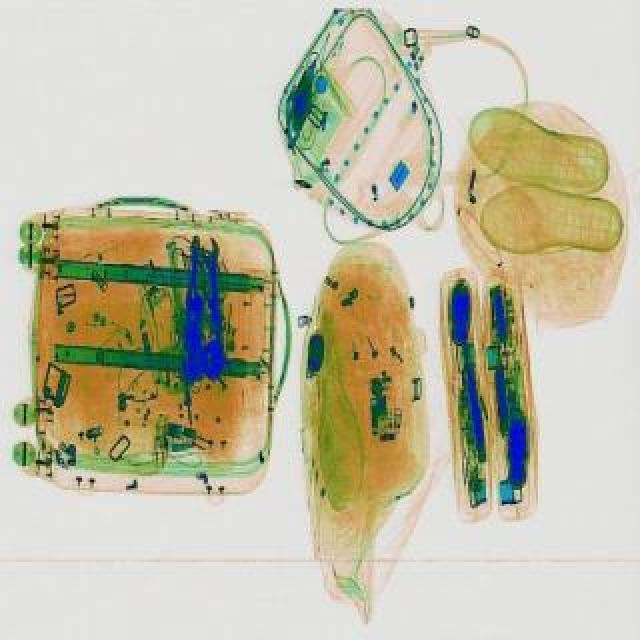scissors: (196, 240, 232, 388)
